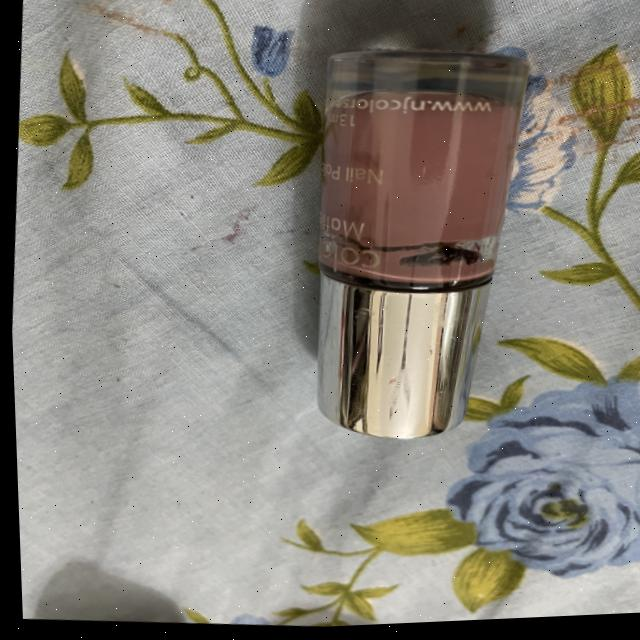nail polish: (267, 26, 549, 481)
